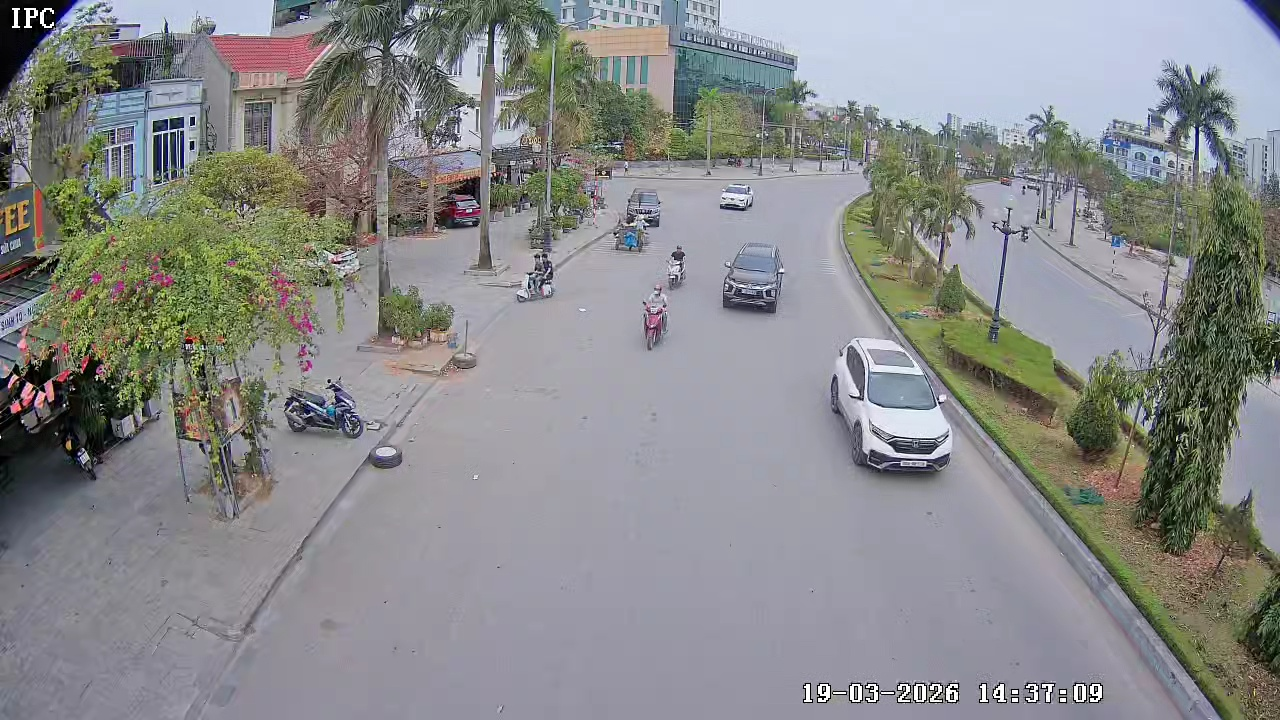car: (827, 336, 954, 471), (721, 239, 787, 313), (718, 180, 756, 211)
motorbike: (283, 373, 365, 438), (513, 251, 557, 302), (640, 283, 671, 351), (618, 216, 648, 252), (665, 244, 687, 290)
